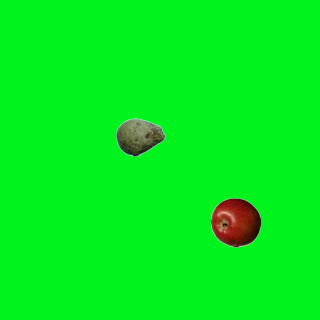Apple Braeburn: (210, 197, 260, 247)
Pear Stone: (115, 112, 165, 162)
